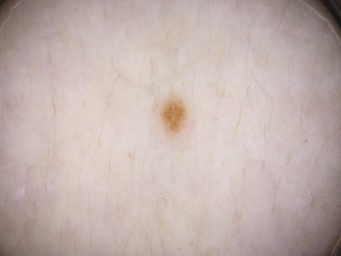melanoma: (162, 99, 185, 132)
